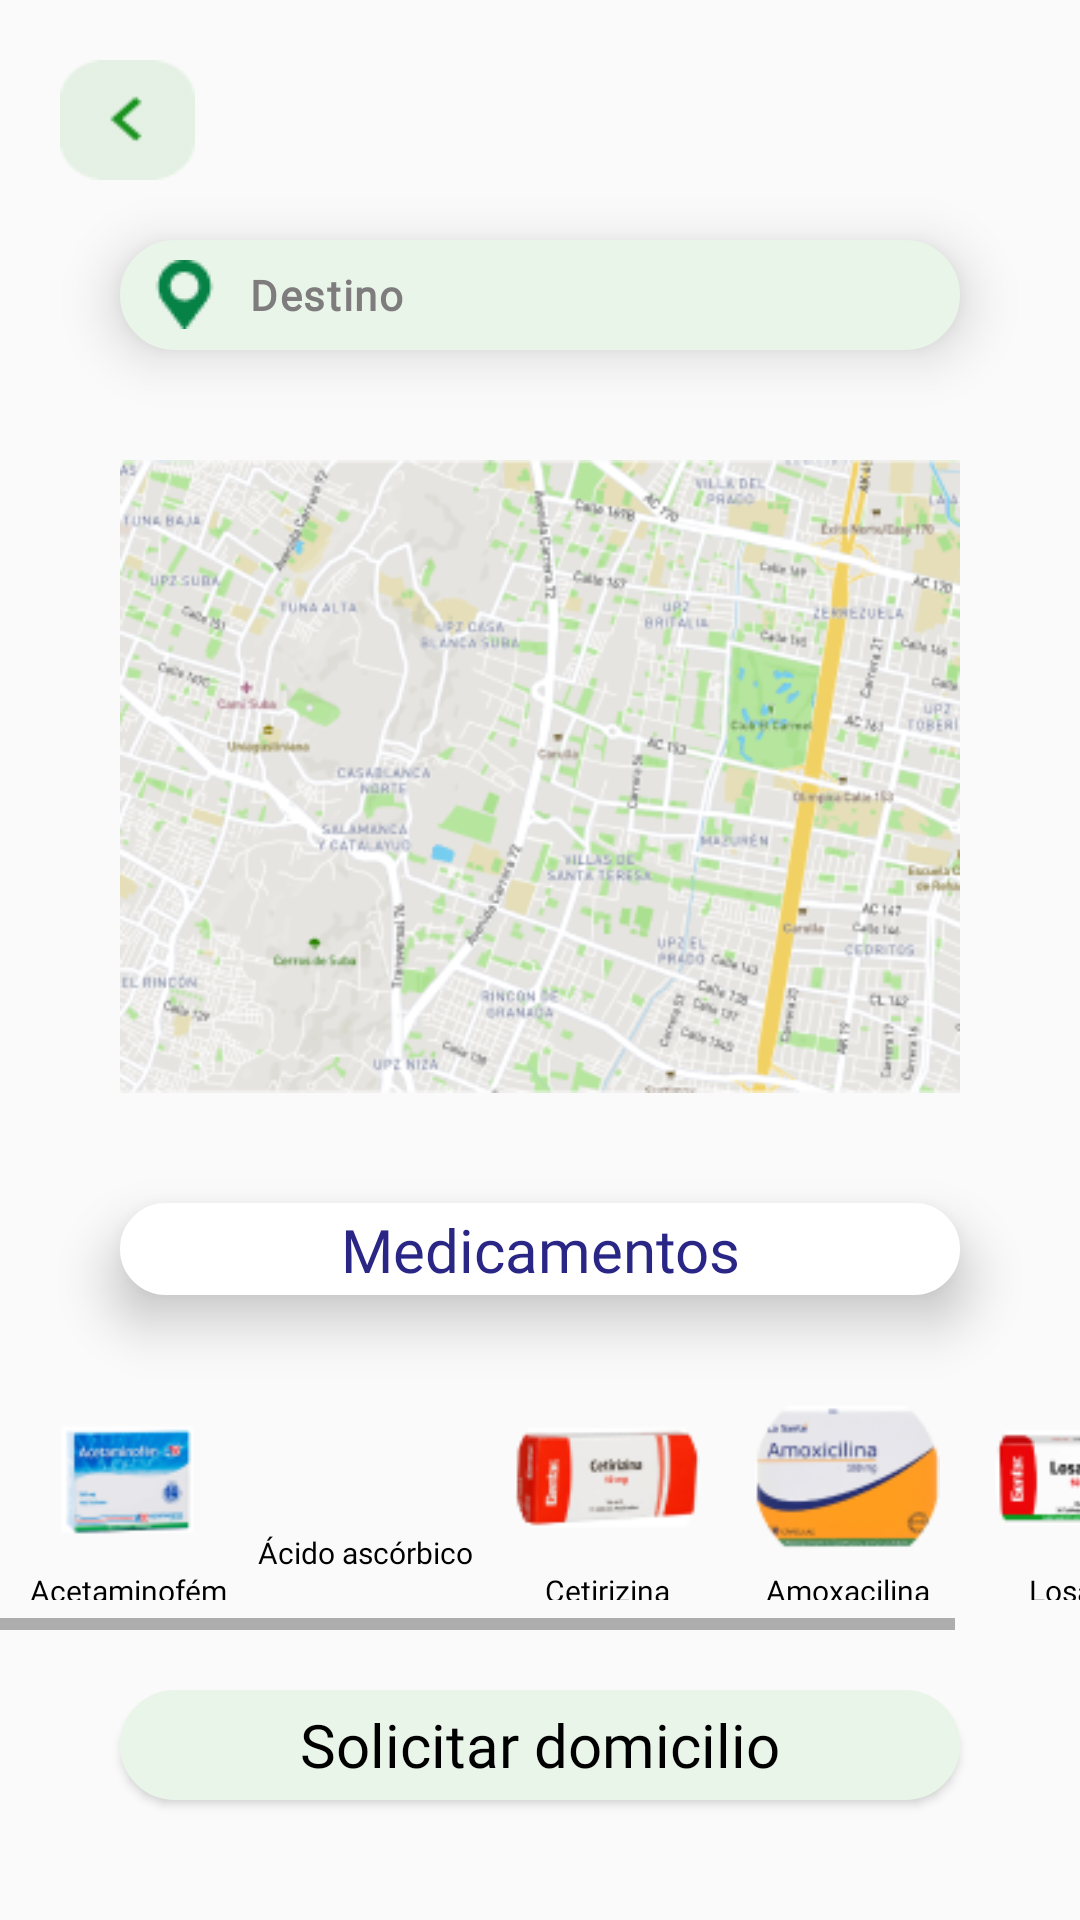

Icon bounding boxes for this 1080*1920 phone screenshot, format (x1, y1, x2, y2):
iconback: (110, 96, 142, 143)
